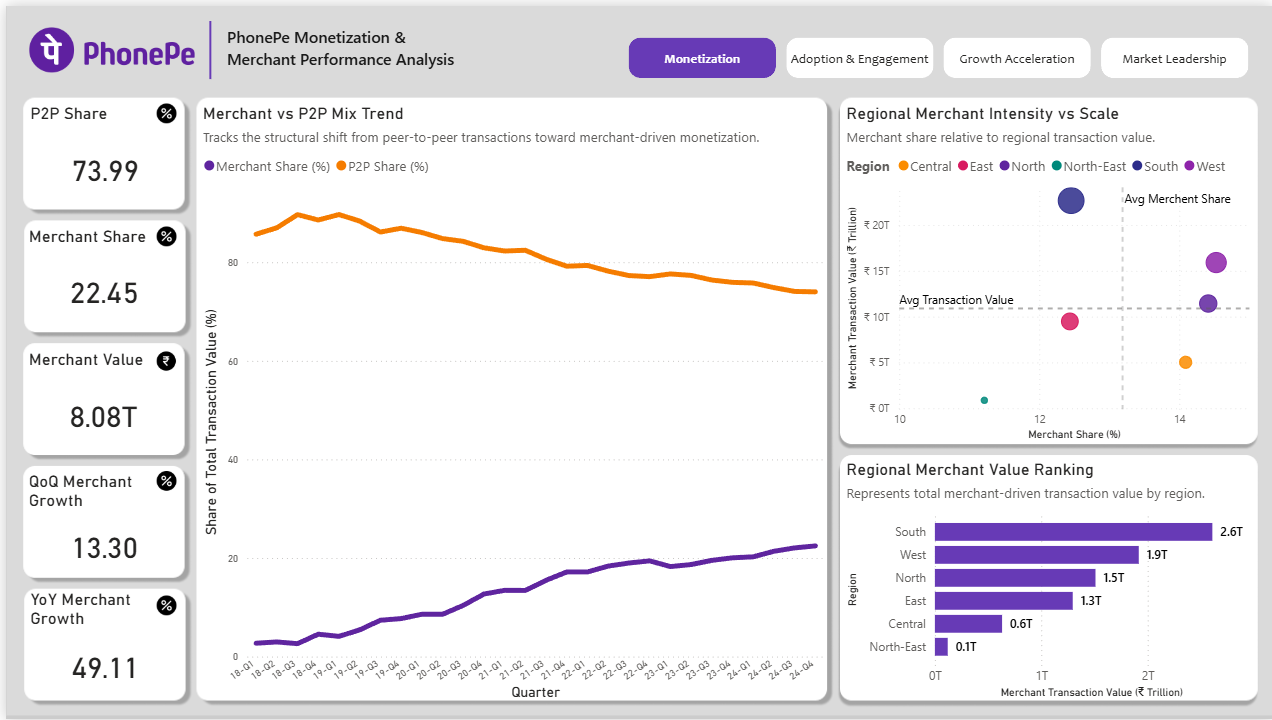

Layout of this report page (visuals, bound fields, positions):
{"tool":"powerbi","page":{"name":"Monetization","canvas":[1280,720],"ordinal":0},"visuals":[{"type":"card","title":"Merchant Share","fields":{"Values":["Max(vw_master_kpi_summary.merchant_share_percent)"]},"box":[18.5,223.1,161.5,111.5],"z":0},{"type":"card","title":"QoQ Merchant Growth","fields":{"Values":["Max(vw_merchant_growth.qoq_growth_percent)"]},"box":[18.3,470,161.7,111.7],"z":1000},{"type":"card","title":"YoY Merchant Growth","fields":{"Values":["Max(vw_merchant_growth.yoy_growth_percent)"]},"box":[20,590,160,115],"z":2000},{"type":"lineChart","title":"Merchant vs P2P Mix Trend","fields":{"Y":["Sum(vw_merchant_vs_p2p_share.merchant_share_percent)","Sum(vw_merchant_vs_p2p_share.p2p_share_percent)"],"Category":["dim_time.short_year_quarter"]},"box":[193.3,98.3,636.7,606.7],"z":3000},{"type":"clusteredBarChart","title":"Regional Merchant Value Ranking","fields":{"Category":["vw_regional_merchant_intensity.region"],"Y":["Sum(vw_regional_merchant_intensity.merchant_value)"]},"box":[843.8,457.8,422.6,246.5],"z":4000},{"type":"scatterChart","title":"Regional Merchant Intensity vs Scale","fields":{"X":["Avg(vw_regional_merchant_intensity.merchant_intensity_percent)"],"Y":["Sum(vw_regional_merchant_intensity.merchant_value)"],"Size":["Sum(vw_regional_merchant_intensity.total_value)"],"Series":["vw_regional_merchant_intensity.region"]},"box":[843.8,98.3,422.6,344.8],"z":5000},{"type":"card","title":"Merchant Value ","fields":{"Values":["Sum(vw_merchant_vs_p2p_share.merchant_value)"]},"box":[18.3,346.7,160,111.7],"z":6000},{"type":"image","box":[19.1,14.7,174.6,58.7],"z":7000},{"type":"pageNavigator","box":[628.1,32.3,626.6,41.1],"z":8000},{"type":"card","title":"P2P Share ","fields":{"Values":["Max(vw_merchant_vs_p2p_share.p2p_share_percent)"]},"box":[20,98.3,160,111.7],"z":9000},{"type":"shape","box":[193.7,14.7,24.9,58.7],"z":10000},{"type":"textbox","box":[218.6,14.7,255.3,58.7],"z":11000},{"type":"image","box":[151.5,98.5,20.8,20],"z":11003},{"type":"image","box":[151.5,223.1,20.8,20],"z":11006},{"type":"image","box":[151.5,470,20.8,20],"z":11007},{"type":"image","box":[151.5,596.2,20.8,20],"z":11008},{"type":"image","box":[152.1,346.4,20.7,22.9],"z":11009}]}

Visuals, with their boxes in screenshot pixels (x1, y1, x2, y2), scaled from the page's 1280x720 canvas onto the 1272x720 screenshot:
"Merchant Share" card: 18 223 179 335
"QoQ Merchant Growth" card: 18 470 179 582
"YoY Merchant Growth" card: 20 590 179 705
"Merchant vs P2P Mix Trend" lineChart: 192 98 825 705
"Regional Merchant Value Ranking" clusteredBarChart: 839 458 1258 704
"Regional Merchant Intensity vs Scale" scatterChart: 839 98 1258 443
"Merchant Value " card: 18 347 177 458
image: 19 15 192 73
pageNavigator: 624 32 1247 73
"P2P Share " card: 20 98 179 210
shape: 192 15 217 73
textbox: 217 15 471 73
image: 151 98 171 118
image: 151 223 171 243
image: 151 470 171 490
image: 151 596 171 616
image: 151 346 172 369
